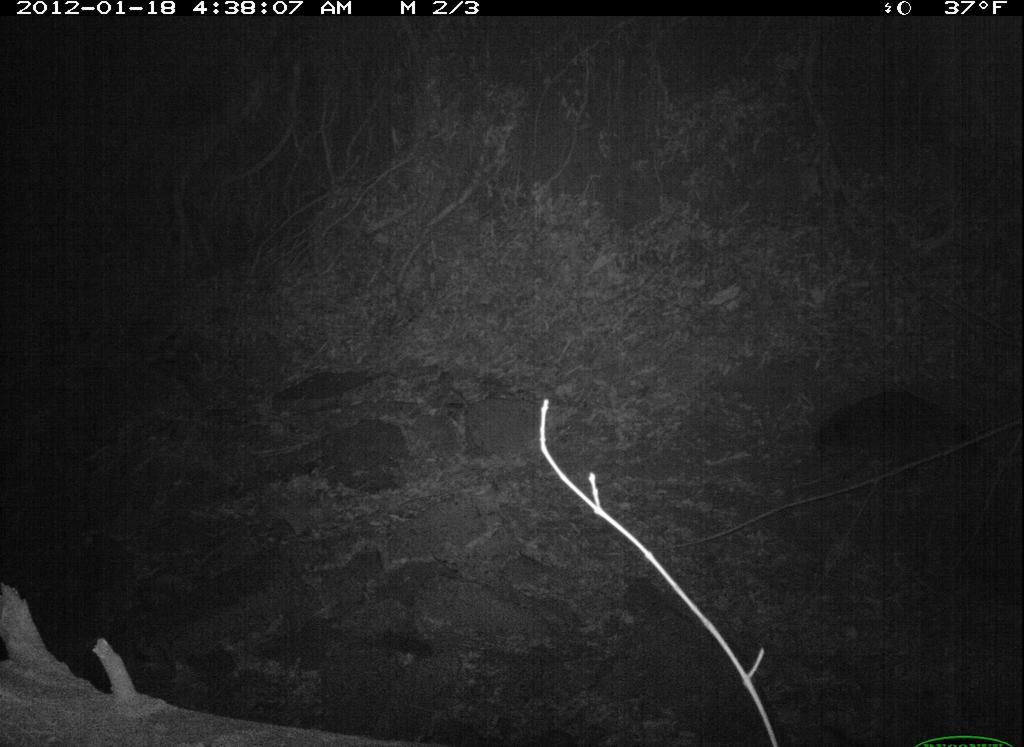raccoon: (808, 382, 998, 500)
